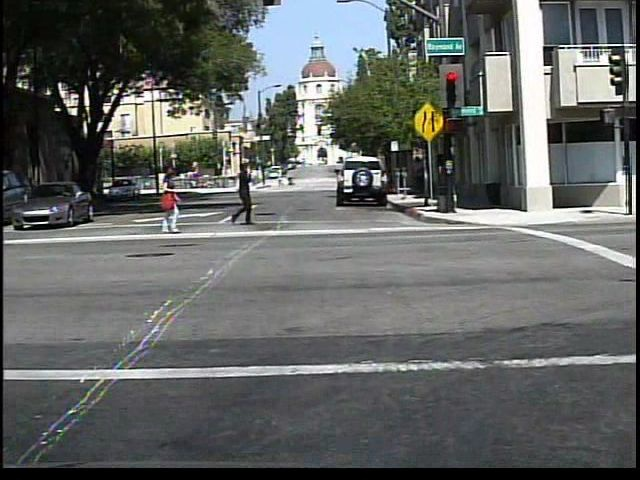person: (150, 160, 189, 236), (222, 159, 262, 230), (275, 171, 284, 191), (286, 171, 294, 189)
